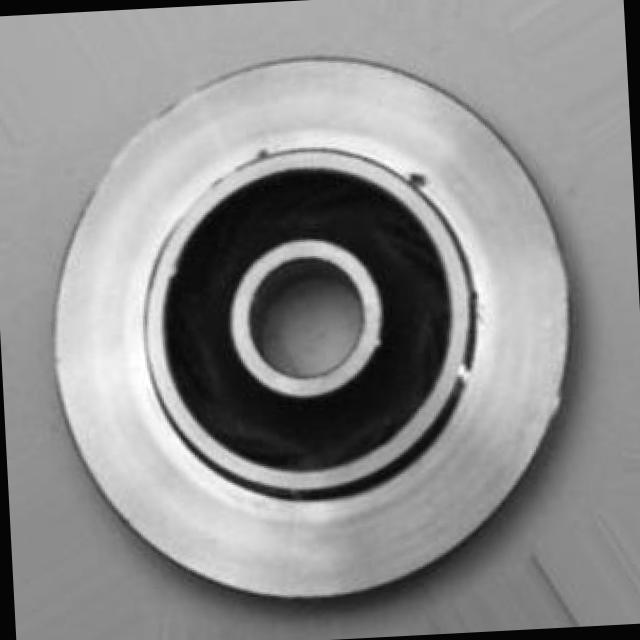Defect: (402, 168, 437, 192)
